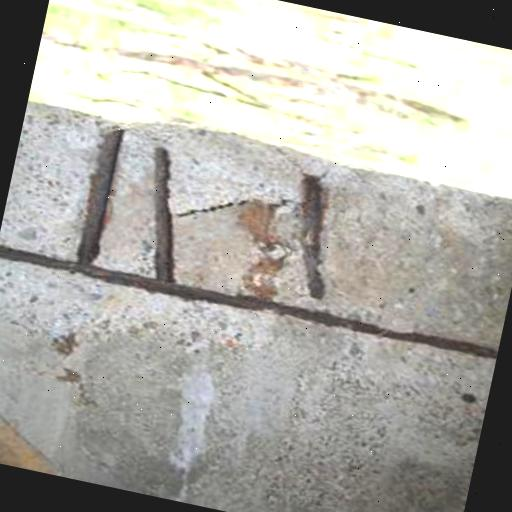spalling: (50, 118, 362, 370)
